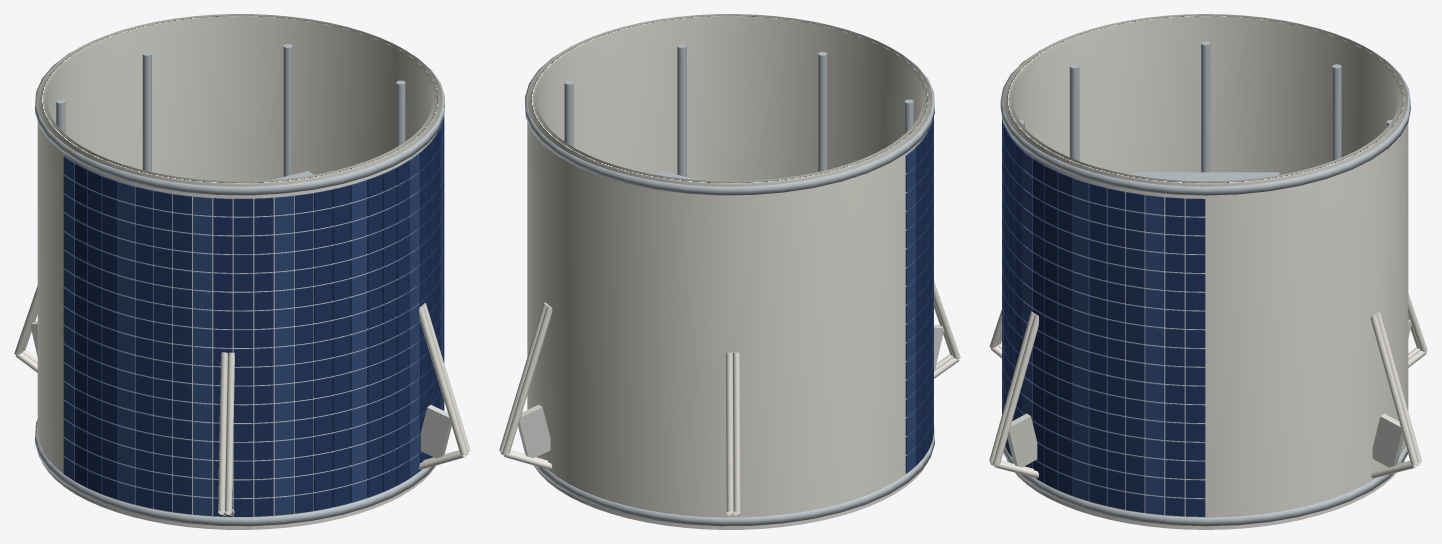
Rendered from dragon_trunk.glb.
3 renders of one model, left to right at view 1: azimuth 30°, elevation 25°; view 2: azimuth 150°, elevation 25°; view 3: azimuth 270°, elevation 25°, orthographic.
Parts seen in each view (by area): view 1: dragon_trunk.body_solar_array.mesh_Indigo_solar_cells, dragon_trunk.mesh_Warm_white_enamel, dragon_trunk.body_solar_array.mesh_Blue_photovoltaic_cells, dragon_trunk.mesh_Satin_aluminum, dragon_trunk.fin_04.mesh_Warm_white_enamel, dragon_trunk.fin_01.mesh_Warm_white_enamel, dragon_trunk.fin_01.mesh_Pale_thermal_blanket, dragon_trunk.fin_03.mesh_Warm_white_enamel; view 2: dragon_trunk.mesh_Warm_white_enamel, dragon_trunk.mesh_Satin_aluminum, dragon_trunk.body_solar_array.mesh_Indigo_solar_cells, dragon_trunk.body_solar_array.mesh_Blue_photovoltaic_cells, dragon_trunk.fin_03.mesh_Warm_white_enamel, dragon_trunk.fin_02.mesh_Warm_white_enamel, dragon_trunk.fin_02.mesh_Pale_thermal_blanket, dragon_trunk.fin_04.mesh_Warm_white_enamel; view 3: dragon_trunk.mesh_Warm_white_enamel, dragon_trunk.body_solar_array.mesh_Indigo_solar_cells, dragon_trunk.body_solar_array.mesh_Blue_photovoltaic_cells, dragon_trunk.mesh_Satin_aluminum, dragon_trunk.fin_02.mesh_Warm_white_enamel, dragon_trunk.fin_01.mesh_Warm_white_enamel, dragon_trunk.fin_02.mesh_Pale_thermal_blanket, dragon_trunk.fin_01.mesh_Pale_thermal_blanket, dragon_trunk.cargo_pallet.mesh_Satin_aluminum, dragon_trunk.fin_03.mesh_Warm_white_enamel.
Part boxes in pixels (x1,y1,x2,y2): dragon_trunk.body_solar_array.mesh_Indigo_solar_cells: (75, 118, 444, 516); dragon_trunk.mesh_Warm_white_enamel: (37, 14, 442, 529); dragon_trunk.body_solar_array.mesh_Blue_photovoltaic_cells: (63, 121, 443, 515); dragon_trunk.mesh_Satin_aluminum: (35, 44, 444, 526); dragon_trunk.fin_04.mesh_Warm_white_enamel: (218, 352, 234, 515); dragon_trunk.fin_01.mesh_Warm_white_enamel: (419, 303, 470, 469); dragon_trunk.fin_01.mesh_Pale_thermal_blanket: (420, 404, 451, 458); dragon_trunk.fin_03.mesh_Warm_white_enamel: (14, 286, 37, 372); dragon_trunk.mesh_Warm_white_enamel: (527, 14, 932, 529); dragon_trunk.mesh_Satin_aluminum: (525, 44, 934, 526); dragon_trunk.body_solar_array.mesh_Indigo_solar_cells: (915, 123, 932, 465); dragon_trunk.body_solar_array.mesh_Blue_photovoltaic_cells: (905, 117, 933, 473); dragon_trunk.fin_03.mesh_Warm_white_enamel: (726, 352, 740, 515); dragon_trunk.fin_02.mesh_Warm_white_enamel: (499, 302, 552, 469); dragon_trunk.fin_02.mesh_Pale_thermal_blanket: (518, 404, 550, 458); dragon_trunk.fin_04.mesh_Warm_white_enamel: (934, 281, 960, 378); dragon_trunk.mesh_Warm_white_enamel: (1003, 14, 1408, 529); dragon_trunk.body_solar_array.mesh_Indigo_solar_cells: (1002, 117, 1205, 516); dragon_trunk.body_solar_array.mesh_Blue_photovoltaic_cells: (1002, 118, 1164, 514); dragon_trunk.mesh_Satin_aluminum: (1000, 41, 1410, 526); dragon_trunk.fin_02.mesh_Warm_white_enamel: (1371, 311, 1421, 478); dragon_trunk.fin_01.mesh_Warm_white_enamel: (989, 311, 1038, 478); dragon_trunk.fin_02.mesh_Pale_thermal_blanket: (1372, 413, 1403, 467); dragon_trunk.fin_01.mesh_Pale_thermal_blanket: (1007, 413, 1037, 467); dragon_trunk.cargo_pallet.mesh_Satin_aluminum: (1132, 172, 1279, 181); dragon_trunk.fin_03.mesh_Warm_white_enamel: (1408, 293, 1427, 367).
Size of the model in its own units: 4.02 by 3.73 by 4.3.
